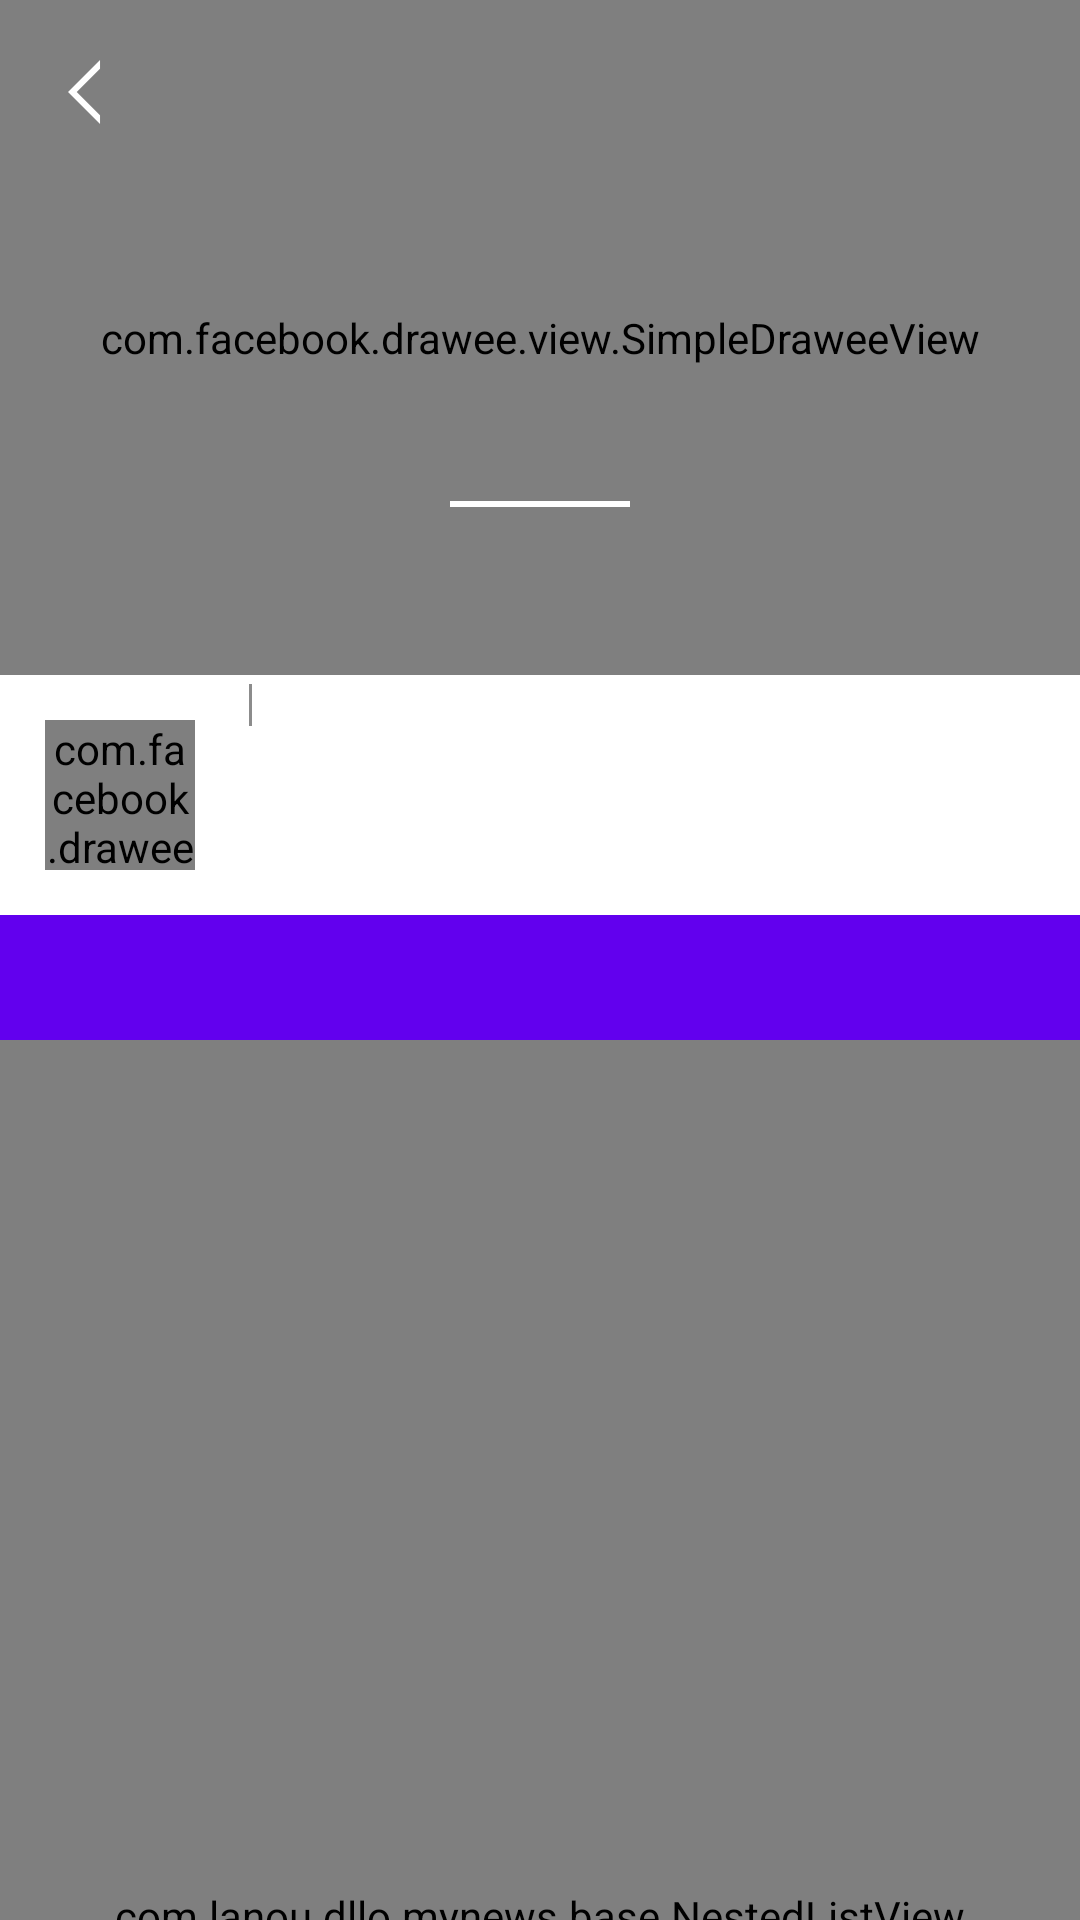

Icons on this 1080 x 1920 Android screen, each with the point to tap as (x=x, y=y):
back: (x=84, y=92)
